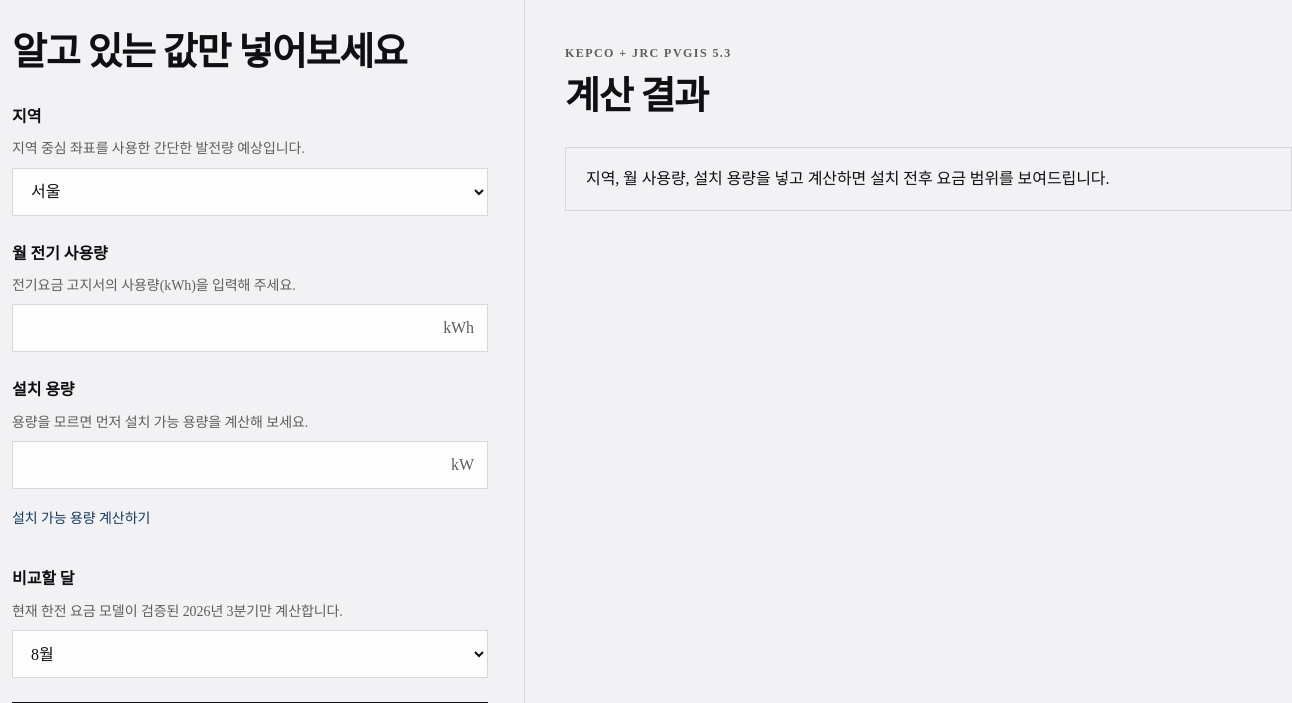
it: BillSavingsCalculator › separates external-data errors from a zero result
The image size is (1292, 703).
In the field labelled "월 전기 사용량": (250, 328) [12,304,488,352], type "400"
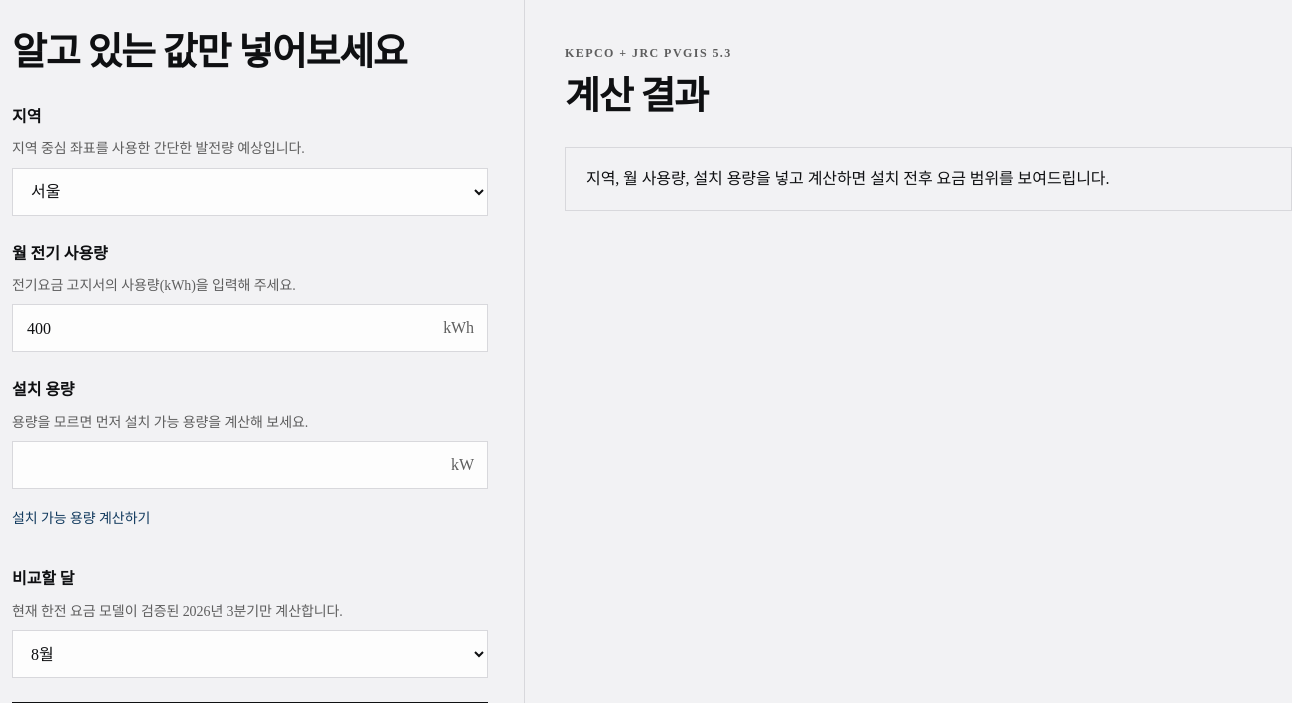
In the field labelled "설치 용량": (250, 465) [12,441,488,489], type "3"
(page scrolled)
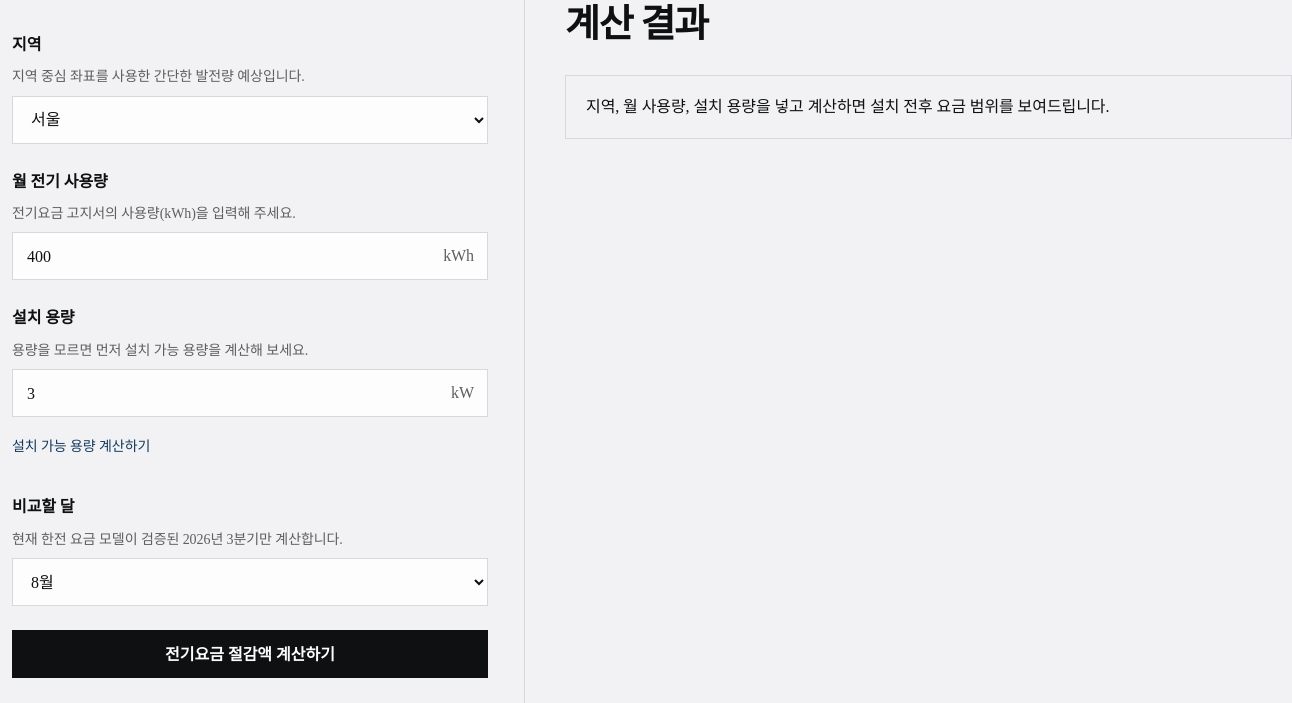
Click the button "전기요금 절감액 계산하기": (250, 654) [12,630,488,678]
(page scrolled)
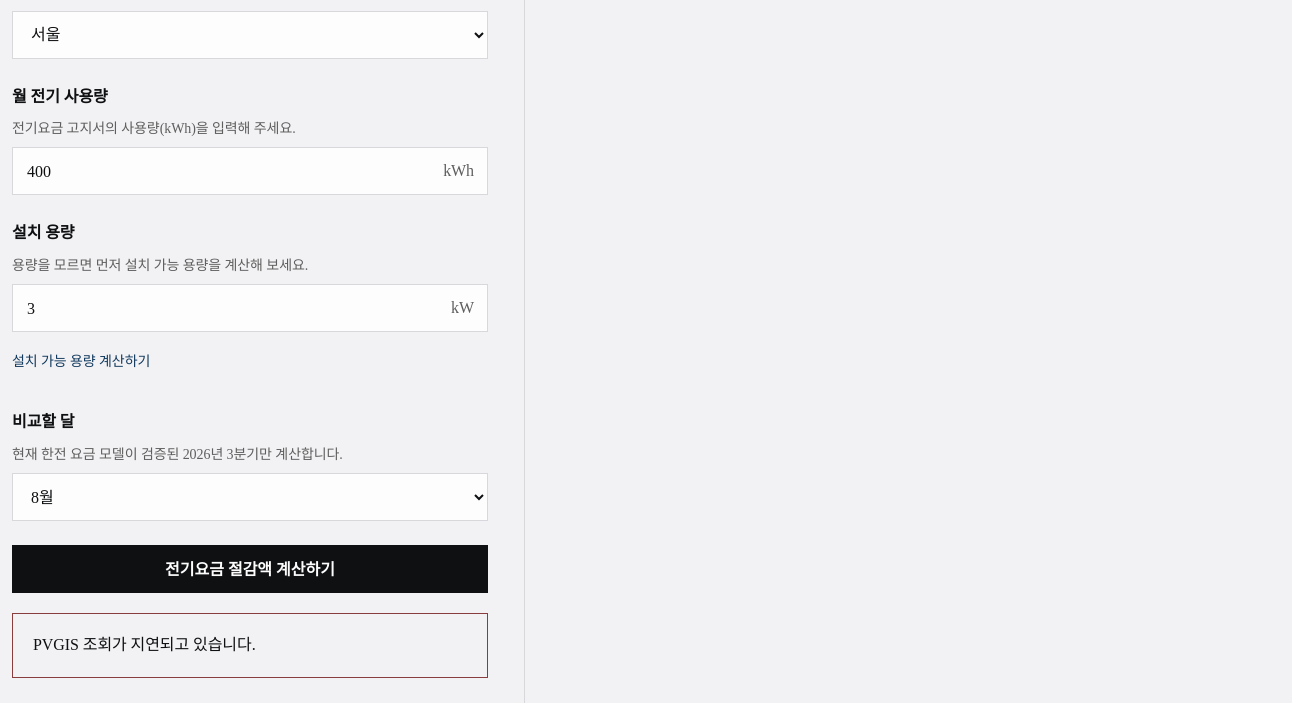
Expected: the message reads "PVGIS 조회가 지연되고 있습니다.", [33,636,256,653]
